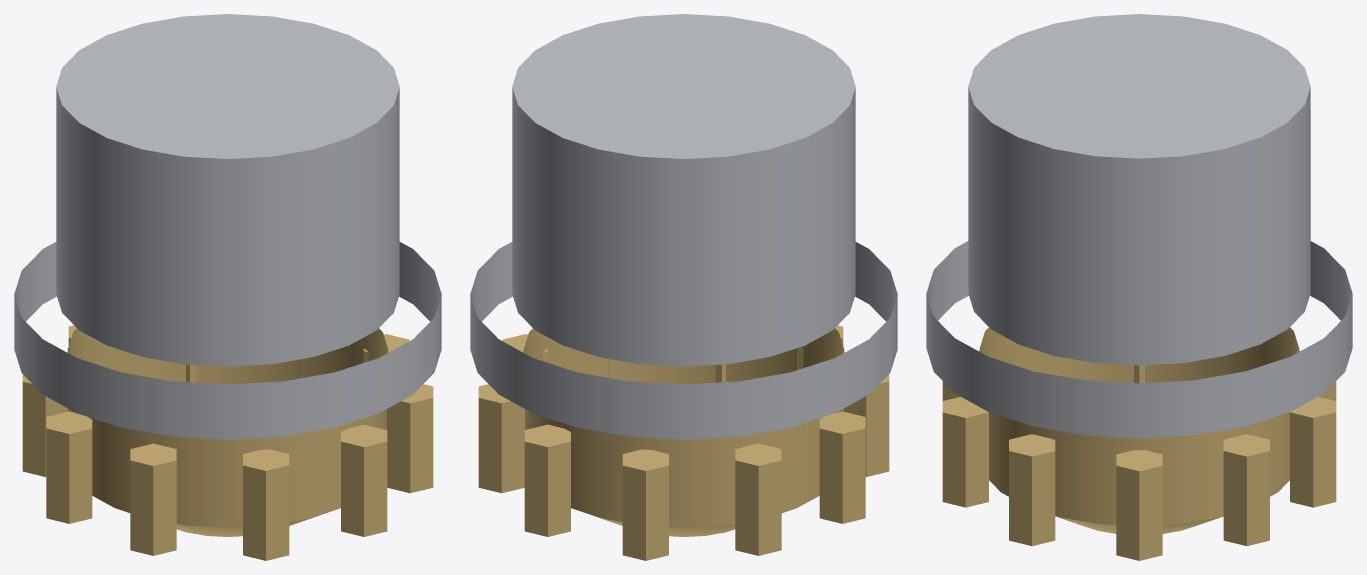
The model's file is rowel.glb.
3 views of the same model, side by side, from view 1: azimuth 30°, elevation 25°; view 2: azimuth 150°, elevation 25°; view 3: azimuth 270°, elevation 25° (orthographic).
Parts seen in each view (by area): view 1: bit_rowel; view 2: bit_rowel; view 3: bit_rowel.
Part boxes in pixels (x1,y1,x2,y2): bit_rowel: (14,14,441,560); bit_rowel: (470,14,897,560); bit_rowel: (926,14,1352,560).
Bounding box in the file's own units: 11.2 × 12 × 11.2.
